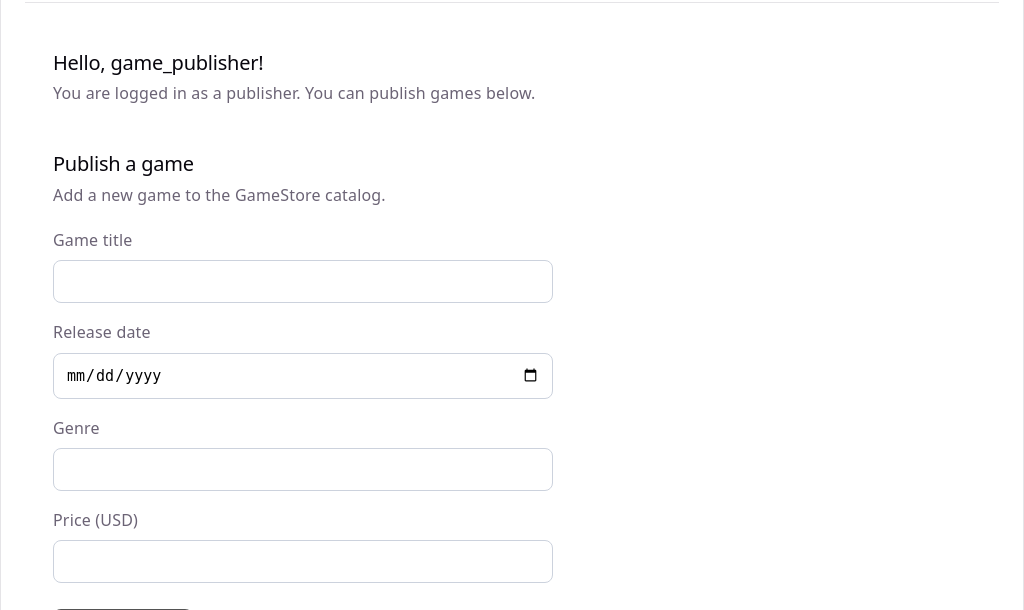
Publisher functionality › publishes a game and reloads the catalog
The image size is (1024, 610).
Type "New Adventure" into the field labelled "Game title" at (303, 282), box [53, 260, 553, 303]
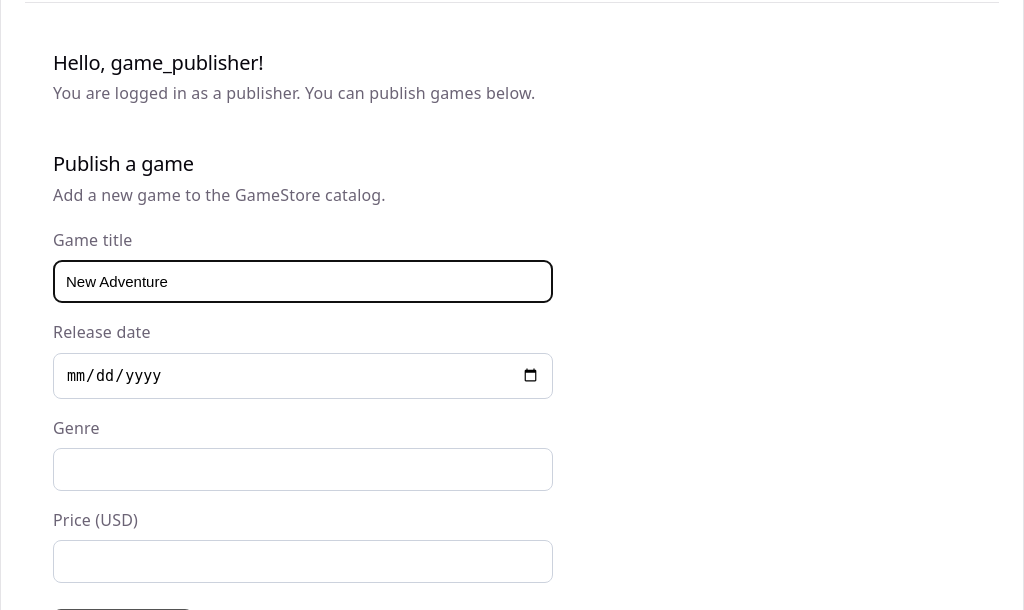
Type "2026-06-15" into the date field labelled "Release date" at (303, 376), box [53, 353, 553, 399]
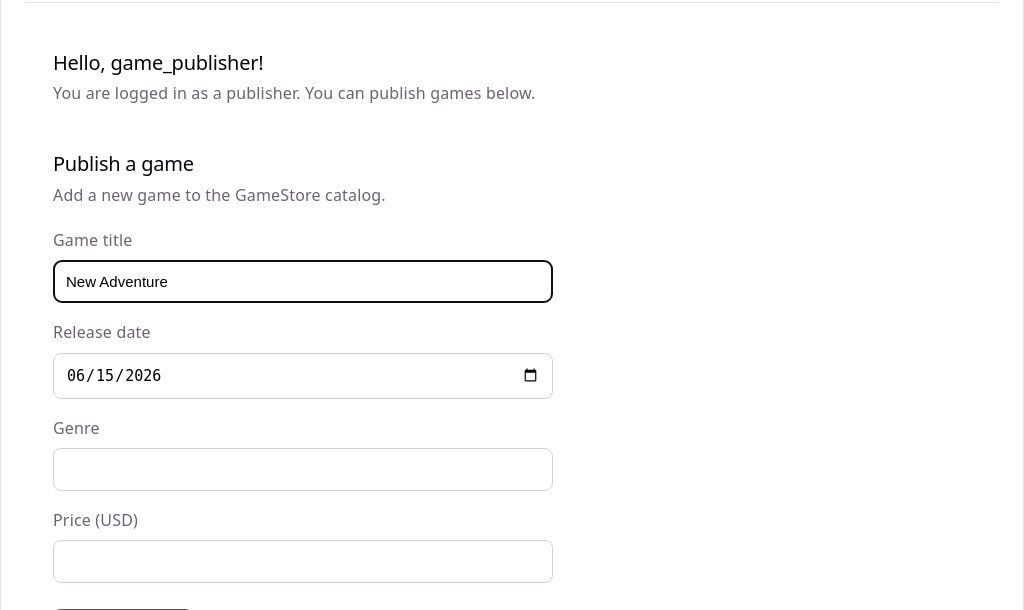
Type "Adventure" into the field labelled "Genre" at (303, 469), box [53, 448, 553, 491]
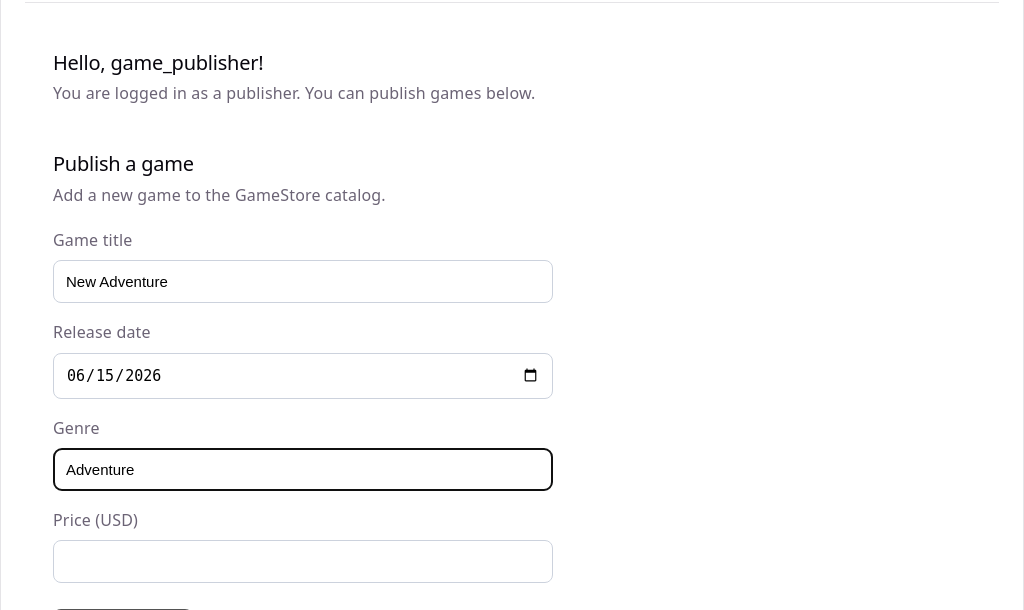
Type "24.99" into the number field labelled "Price (USD)" at (303, 562), box [53, 540, 553, 583]
(page scrolled)
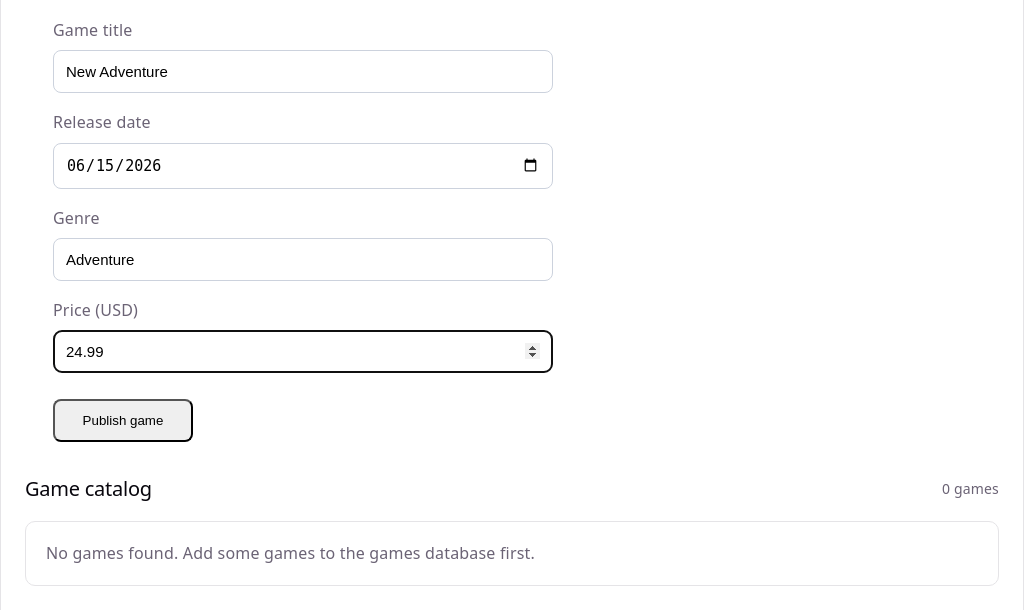
Click the button "Publish game" at (123, 420), box [53, 399, 193, 442]
(page scrolled)
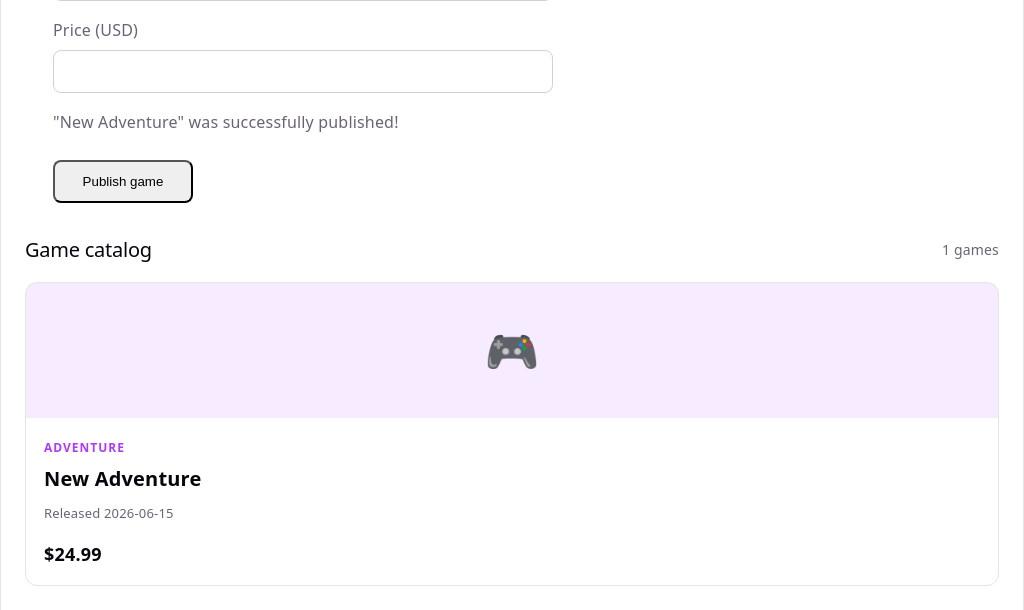
Check: the text "\"New Adventure\" was successfully published!" is shown, box [53, 111, 399, 133]
Check: the heading "New Adventure" is shown, box [44, 465, 202, 492]
